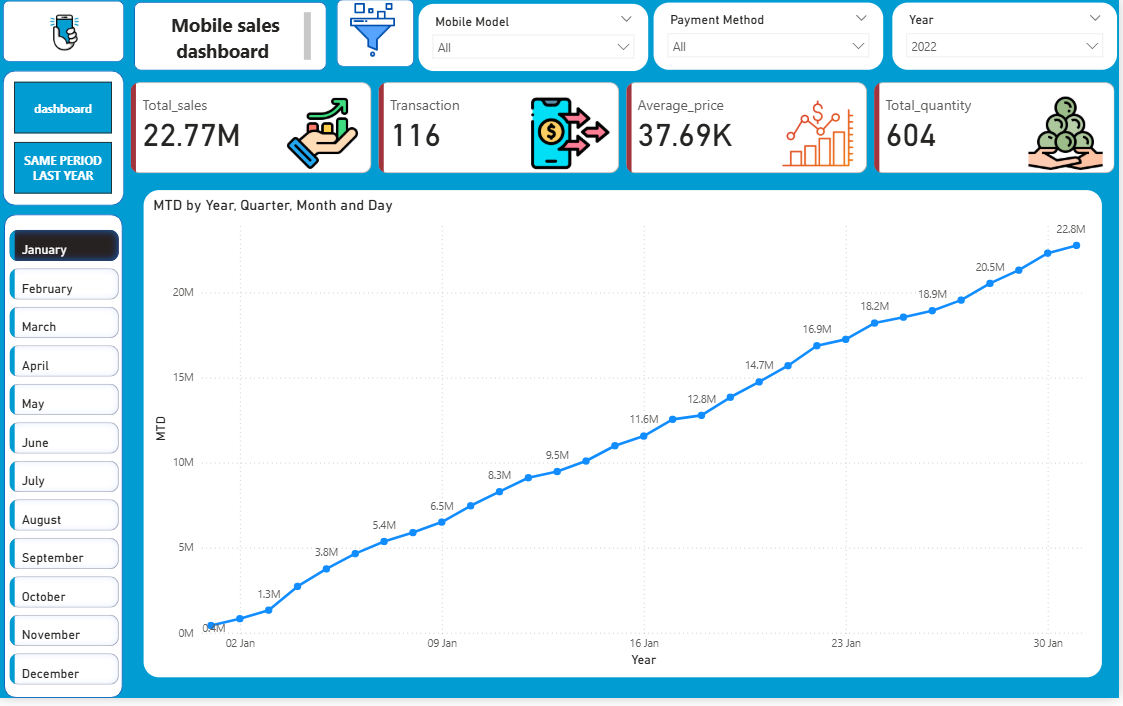

Layout of this report page (visuals, bound fields, positions):
{"tool":"powerbi","page":{"name":"MTD REPORT","canvas":[1280,800],"ordinal":1},"visuals":[{"type":"shape","box":[4.3,2.9,138.6,70],"z":0},{"type":"image","box":[42.9,7.1,64.3,64.3],"z":1000},{"type":"shape","box":[4.3,82.9,138.6,154.3],"z":2000},{"type":"cardVisual","fields":{"Data":["Sales_data.Total_sales","Sales_data.Transaction","Sales_data.Average_price","Sales_data.Total_quantity"]},"box":[145.7,91.4,1134.3,114.3],"z":3000},{"type":"slicer","fields":{"Values":["Custom Calander.Date.Variation.Date Hierarchy.Year"]},"box":[1018.6,2.9,261.4,81.4],"z":4000},{"type":"slicer","fields":{"Values":["Sales_data.Payment Method"]},"box":[745.7,2.9,267.1,81.4],"z":5000},{"type":"slicer","fields":{"Values":["Sales_data.Mobile Model"]},"box":[477.1,4.3,267.1,81.4],"z":6000},{"type":"shape","box":[385.7,1.4,88.6,77.1],"z":7000},{"type":"image","box":[358.6,0,137.1,72.9],"z":8000},{"type":"shape","box":[154.3,4.3,220,78.6],"z":9000},{"type":"textbox","box":[162.9,11.4,198.6,65.7],"z":10000},{"type":"lineChart","fields":{"Category":["Custom Calander.Date.Variation.Date Hierarchy.Year","Custom Calander.Date.Variation.Date Hierarchy.Quarter","Custom Calander.Date.Variation.Date Hierarchy.Month","Custom Calander.Date.Variation.Date Hierarchy.Day"],"Y":["Sales_data.MTD"]},"box":[162.9,217.1,1100,561.4],"z":11000},{"type":"shape","box":[5.7,247.1,135.7,552.9],"z":12000},{"type":"advancedSlicerVisual","fields":{"Values":["Custom Calander.Date.Variation.Date Hierarchy.Month"]},"box":[7.1,260,135.7,540],"z":13000},{"type":"pageNavigator","box":[17.5,96.2,112.5,128.8],"z":13001}]}

Visuals, with their boxes in screenshot pixels (x1, y1, x2, y2), scaled from the page's 1280x800 canvas onto the 1123x706 screenshot:
shape: 4:3:125:64
image: 38:6:94:63
shape: 4:73:125:209
cardVisual - Sales_data.Total_sales x Sales_data.Transaction: 128:81:1122:182
slicer - Custom Calander.Date.Variation.Date Hierarchy.Year: 894:3:1122:74
slicer - Sales_data.Payment Method: 654:3:889:74
slicer - Sales_data.Mobile Model: 419:4:653:76
shape: 338:1:416:69
image: 315:0:435:64
shape: 135:4:328:73
textbox: 143:10:317:68
lineChart - Custom Calander.Date.Variation.Date Hierarchy.Year x Custom Calander.Date.Variation.Date Hierarchy.Quarter: 143:192:1108:687
shape: 5:218:124:705
advancedSlicerVisual - Custom Calander.Date.Variation.Date Hierarchy.Month: 6:229:125:705
pageNavigator: 15:85:114:199
